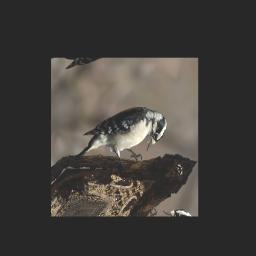Woodpecker: (69, 94, 173, 188)
